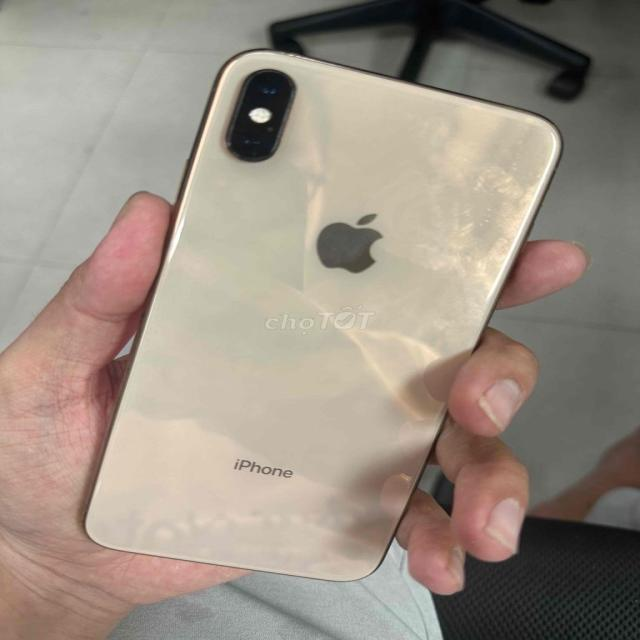gen_x_xs: (80, 42, 565, 582)
